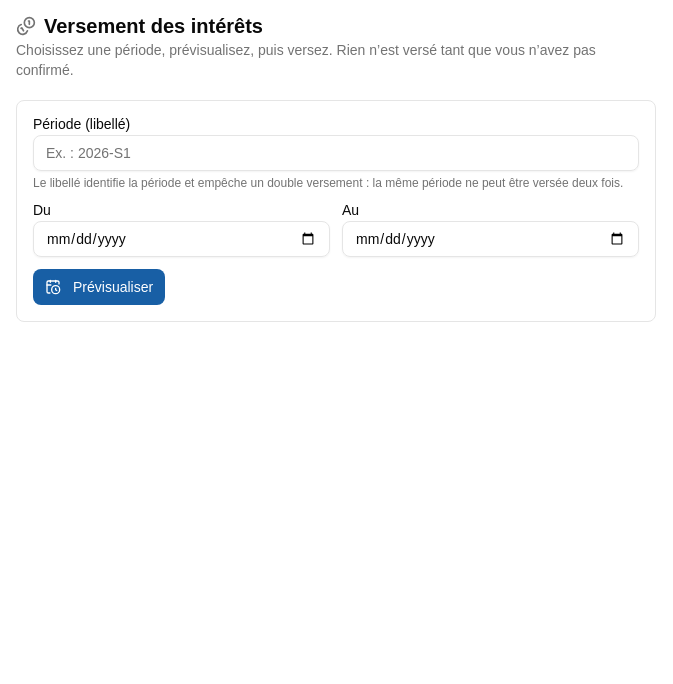
Test: PageVersementInterets › verser exige une confirmation renforcée, puis rend le résultat
The image size is (673, 684).
Type "2026-S1" into the field labelled "Période (libellé)" at [336, 153], box x1=33 y1=135 x2=639 y2=171
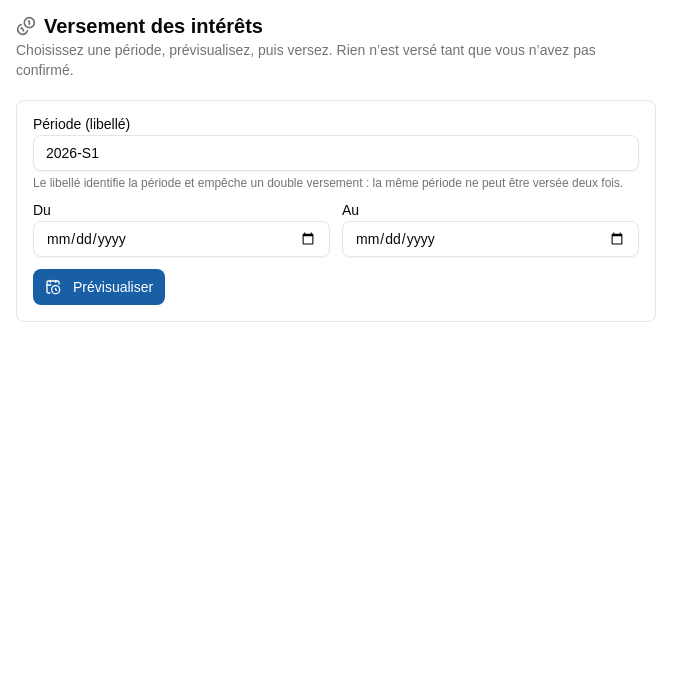
Type "2026-01-01" into the date field labelled "Du" at [182, 239], box x1=33 y1=221 x2=330 y2=257
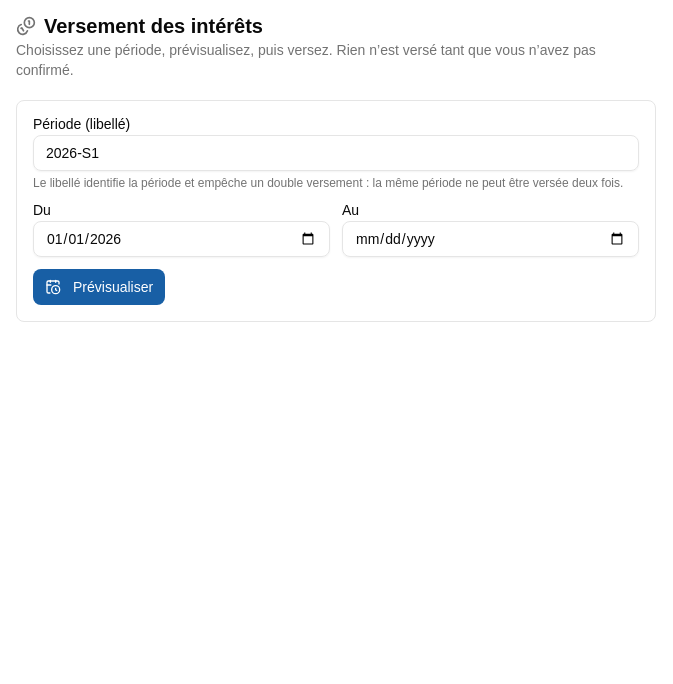
Type "2026-06-30" into the date field labelled "Au" at [490, 239], box x1=342 y1=221 x2=639 y2=257
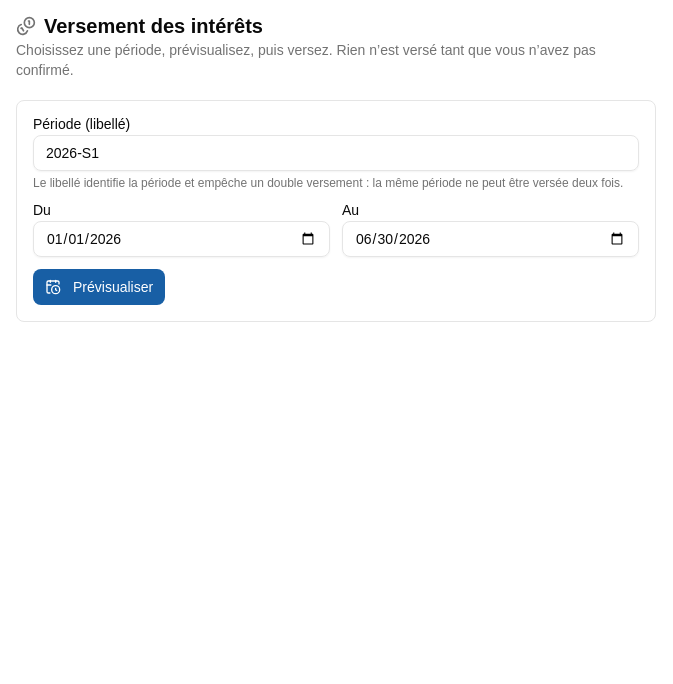
Click the button "Prévisualiser" at [99, 287], box x1=33 y1=269 x2=165 y2=305
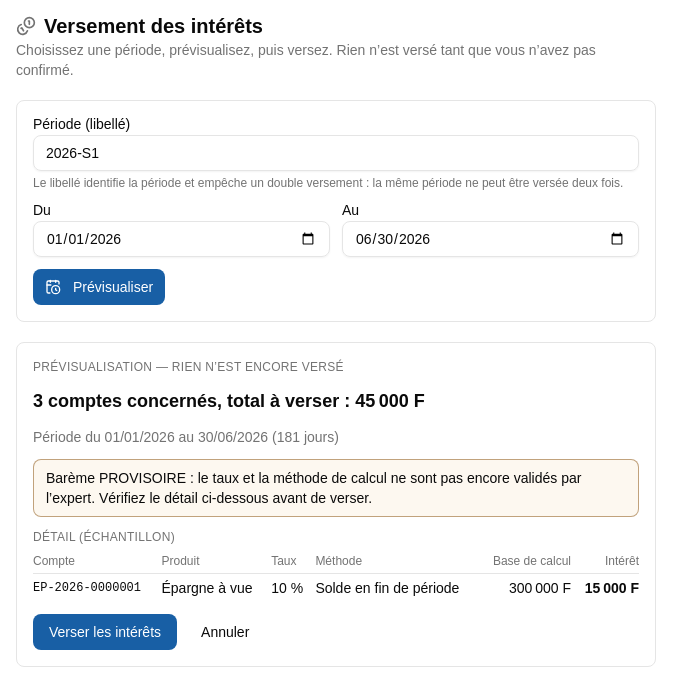
Click the button "Verser les intérêts" at [105, 632], box x1=33 y1=614 x2=177 y2=650
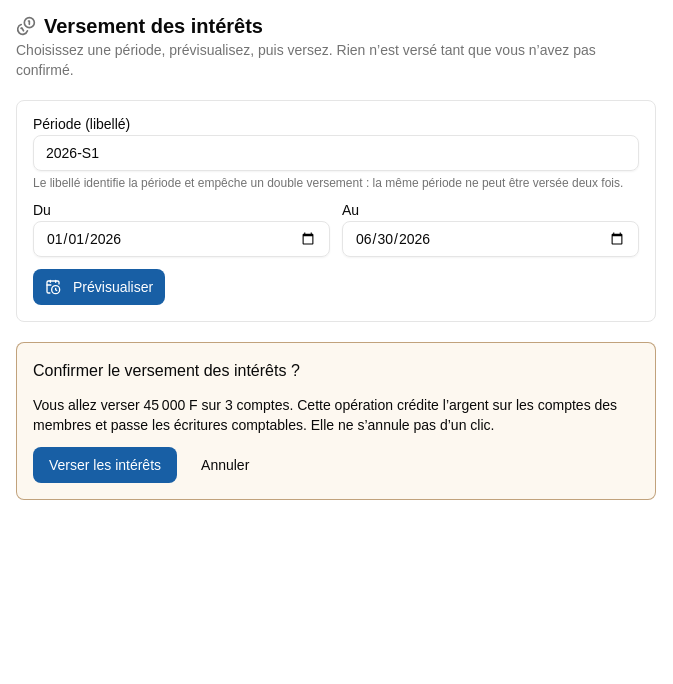
Now the text "Confirmer le versement des intérêts ?" is shown, box x1=33 y1=362 x2=300 y2=379
Now the text "Vous allez verser 45 000 F sur 3 comptes" is shown, box x1=33 y1=397 x2=617 y2=433
Click the button "Verser les intérêts" at [105, 465], box x1=33 y1=447 x2=177 y2=483
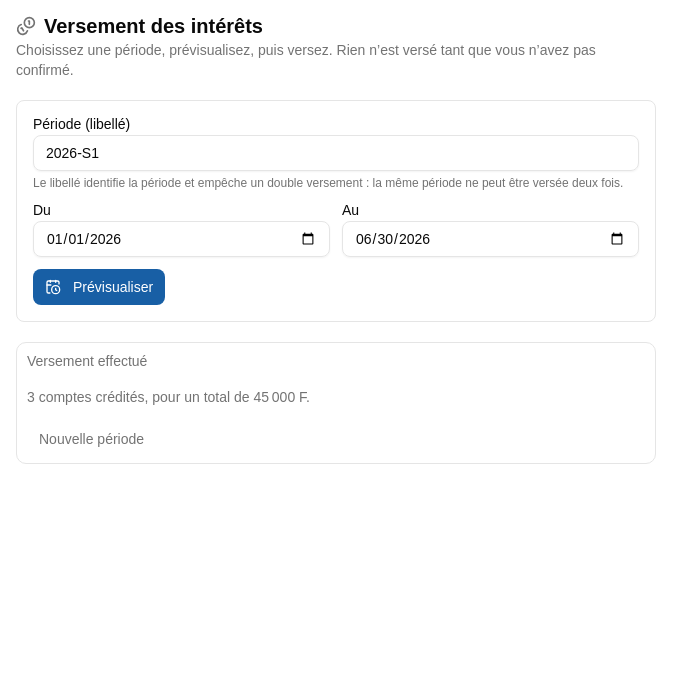
Now the text "3 comptes crédités, pour un total de 45 000 F." is shown, box x1=27 y1=389 x2=310 y2=405
